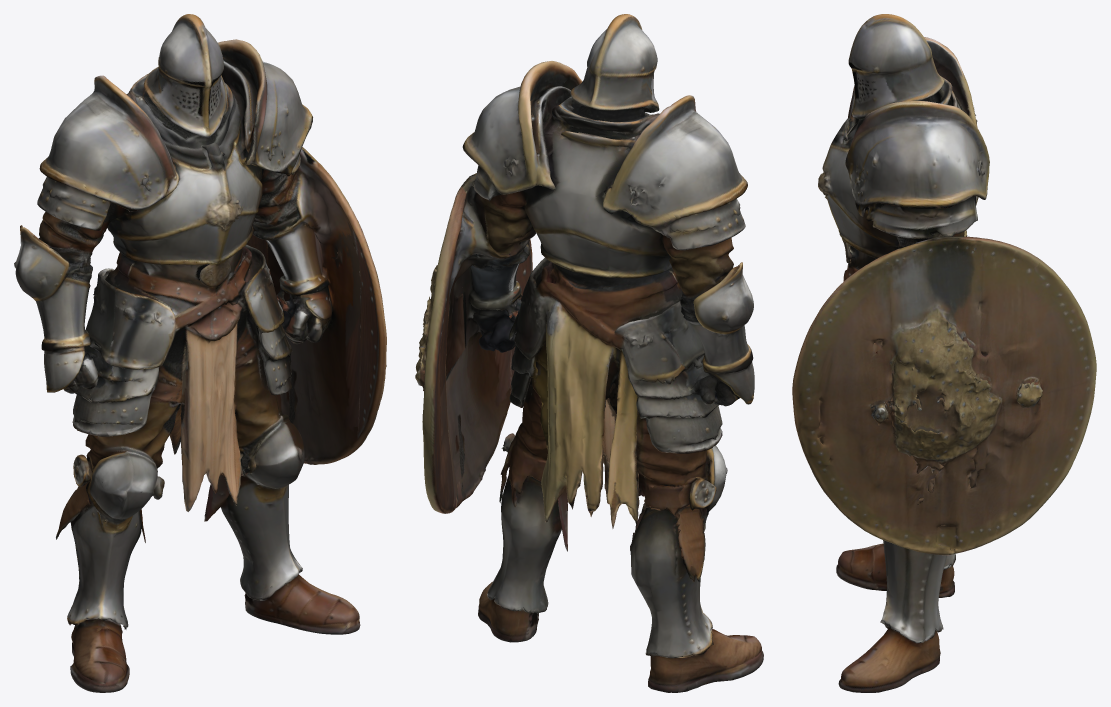
Rendered from Meshy_AI_Inferno_Knight_1115232927_texture(1).glb.
The picture shows the model from 3 angles, left to right: view 1: azimuth 30°, elevation 25°; view 2: azimuth 150°, elevation 25°; view 3: azimuth 270°, elevation 25°; orthographic projection. The views are drawn at different scales.
Bounding box in the file's own units: 1.07 × 2 × 0.9044.
1 material, 1 textured.
